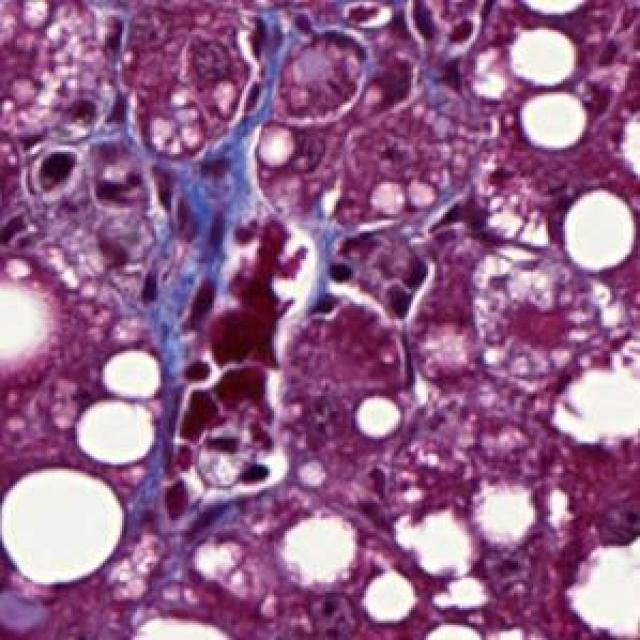inflammation: (375, 254, 445, 330), (26, 142, 86, 204)
